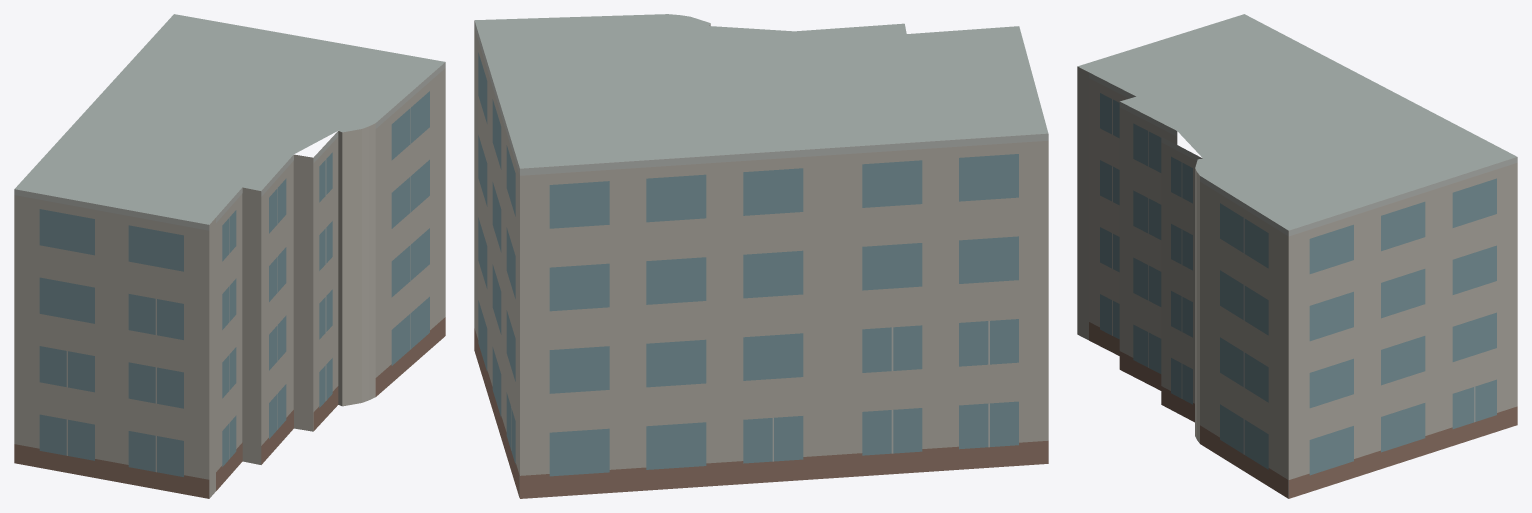
Rendered from survey-upis-32912780.glb.
The picture shows the model from 3 angles, left to right: view 1: azimuth 30°, elevation 25°; view 2: azimuth 150°, elevation 25°; view 3: azimuth 270°, elevation 25°; orthographic projection. The views are drawn at different scales.
Visible parts, largest first — view 1: survey-upis-32912780.tmp; view 2: survey-upis-32912780.tmp; view 3: survey-upis-32912780.tmp.
Boxes of the visible parts, x1,y1,x2,y2 form: survey-upis-32912780.tmp: (14,14,445,498); survey-upis-32912780.tmp: (474,14,1048,498); survey-upis-32912780.tmp: (1077,14,1517,498).
Bounding box in the file's own units: 19.59 × 11.3 × 16.82.
